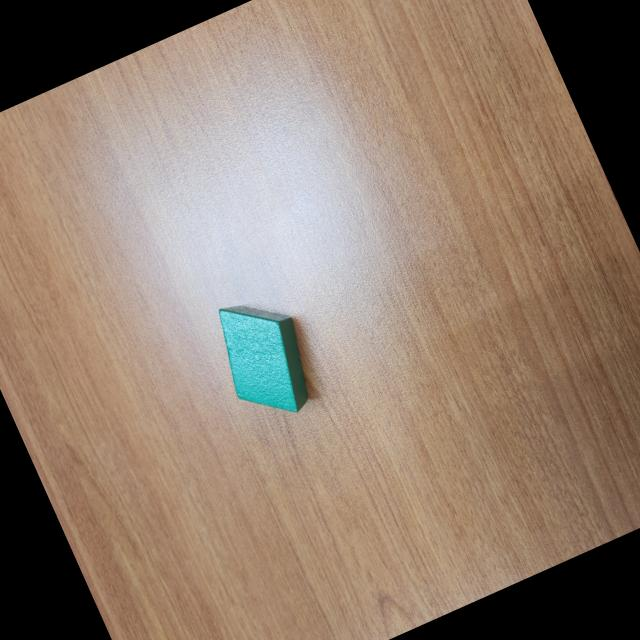green: (200, 282, 330, 433)
